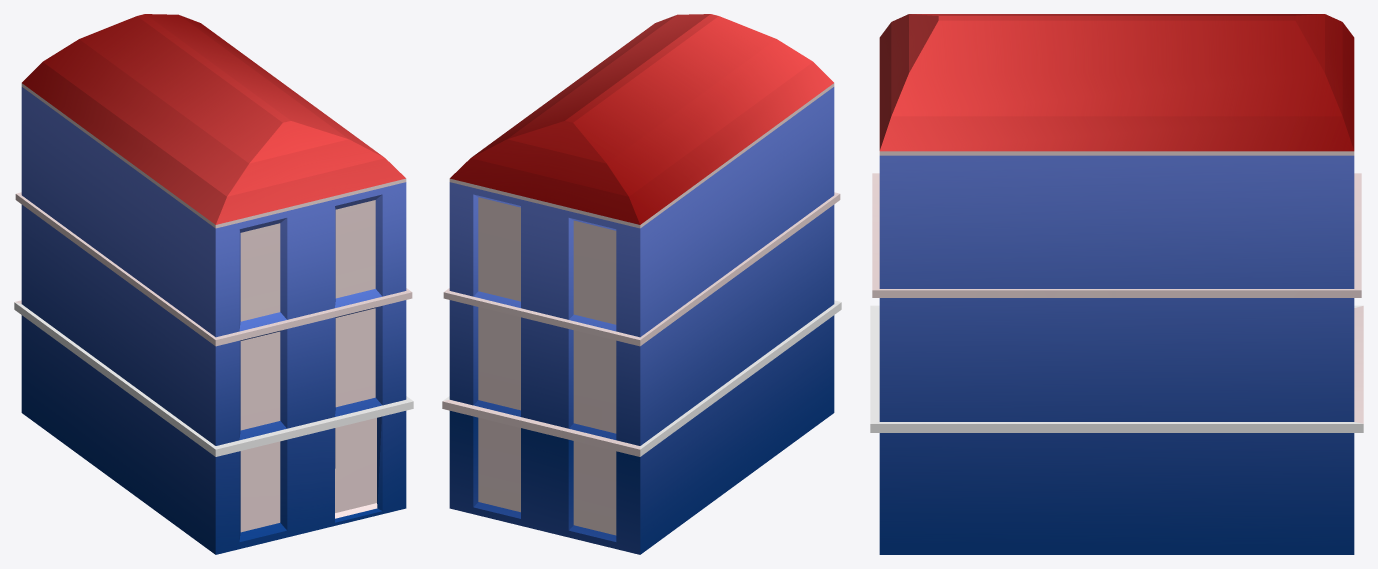
File: Grachtenhuisje_Blauw.fbx
3 views of the same model, side by side, from view 1: azimuth 30°, elevation 25°; view 2: azimuth 150°, elevation 25°; view 3: azimuth 270°, elevation 25° (orthographic). The views are drawn at different scales.
Visible parts, largest first — view 1: Cube; view 2: Cube; view 3: Cube.
Part boxes in pixels (bbox=[...]): Cube: bbox=[14, 14, 413, 554]; Cube: bbox=[442, 14, 841, 554]; Cube: bbox=[870, 14, 1363, 554].
Size of the model in its own units: 571 by 1082 by 1008.
